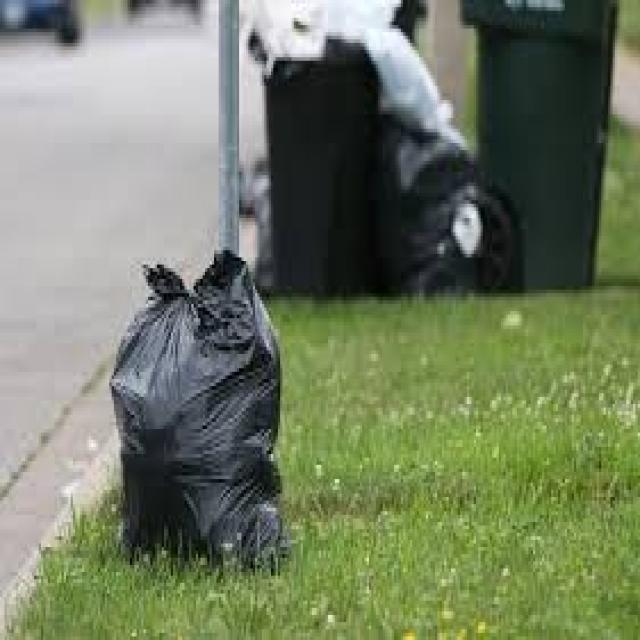Vinyl: (104, 258, 300, 576)
